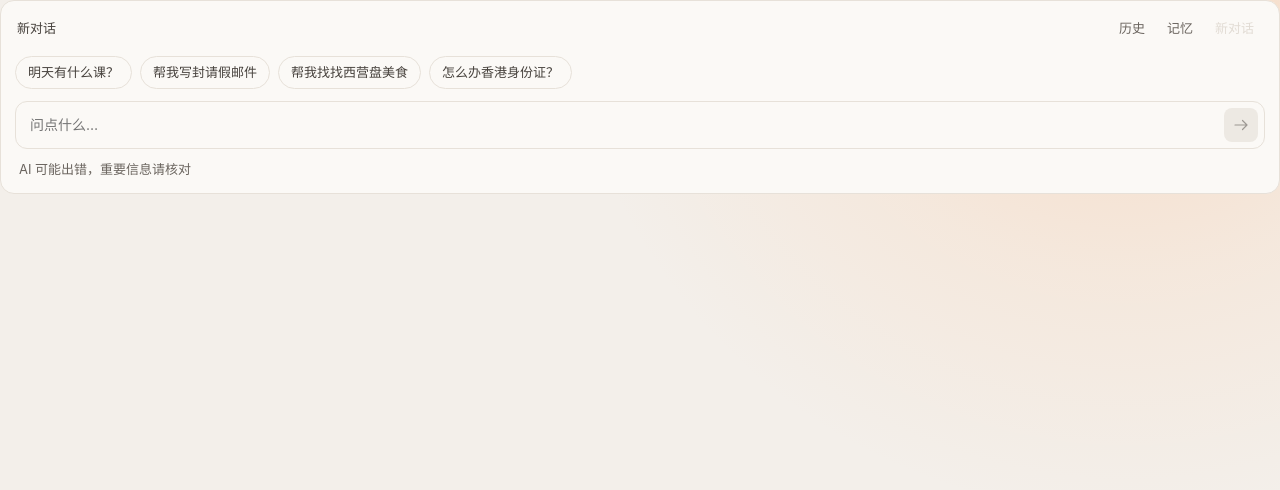
Test: shows errors in the conversation
In the text box named "给 AI 助手的消息": {"x": 622, "y": 125} [30, 108, 1214, 141], type "你好"
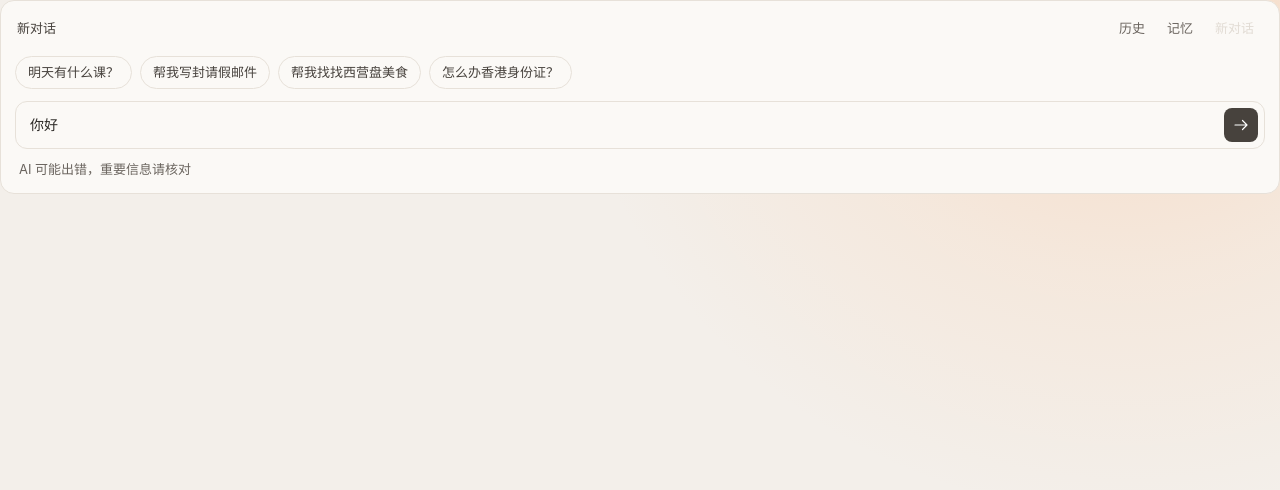
Click the button named "发送": {"x": 1241, "y": 125} [1224, 108, 1258, 142]
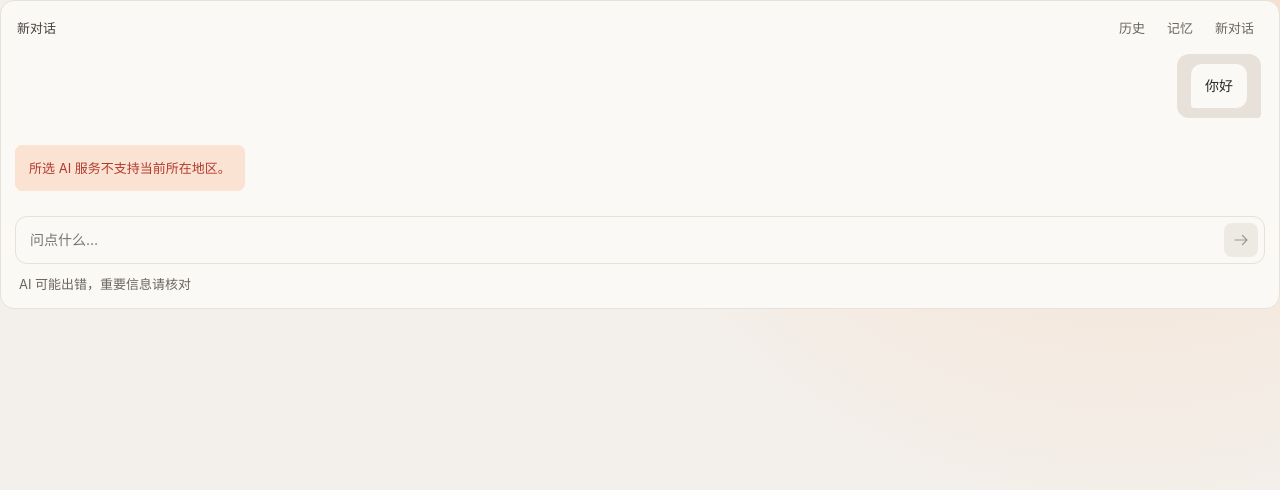
Now the message shows "不支持当前所在地区", box [29, 160, 231, 176]
In the text box named "给 AI 助手的消息": {"x": 622, "y": 240} [30, 223, 1214, 256], type "再试"
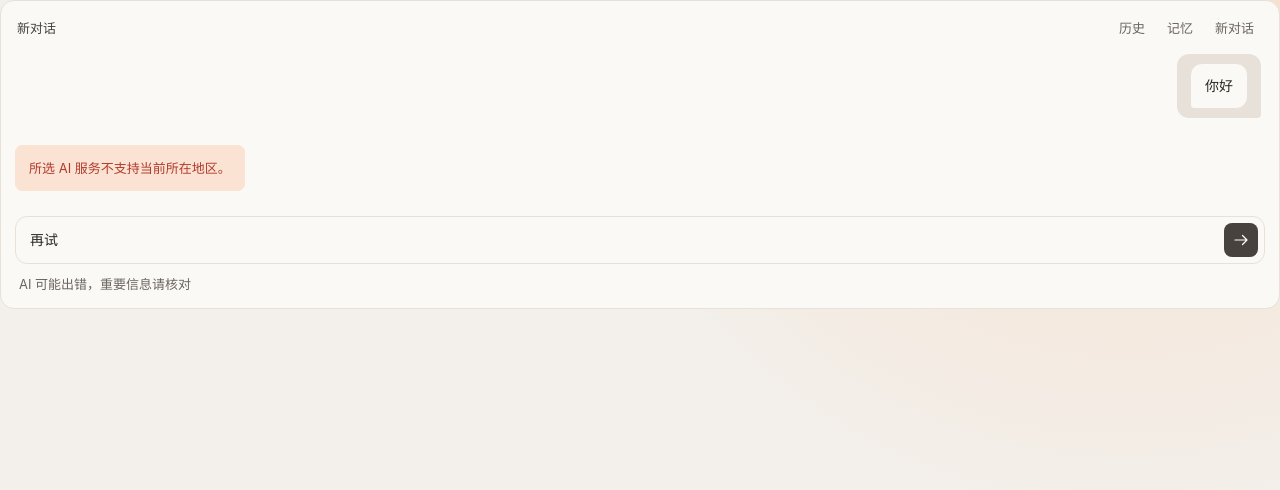
Click the button named "发送": {"x": 1241, "y": 240} [1224, 223, 1258, 257]
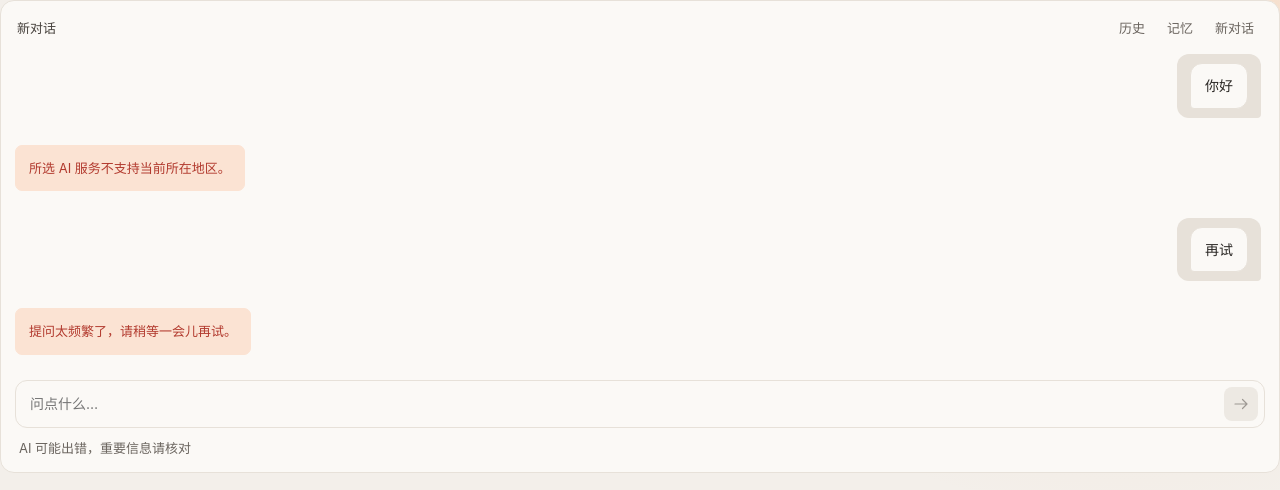
Now the message "提问太频繁了，请稍等一会儿再试。" is shown, box [15, 308, 251, 355]
